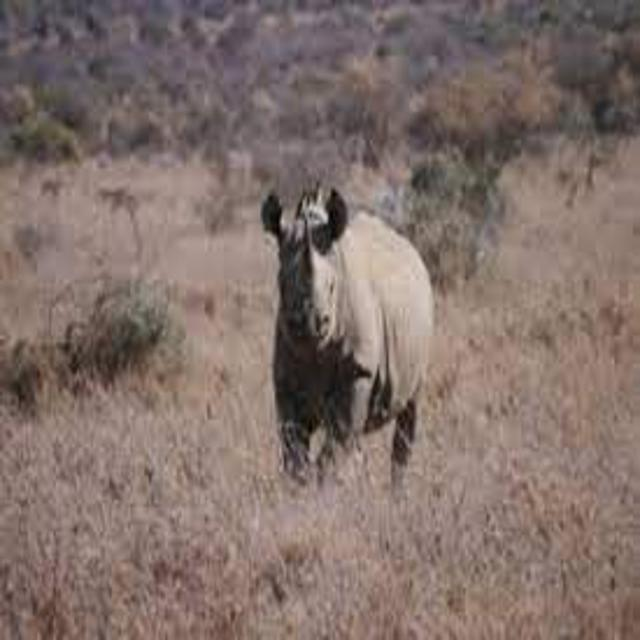rhino: (199, 153, 479, 525)
